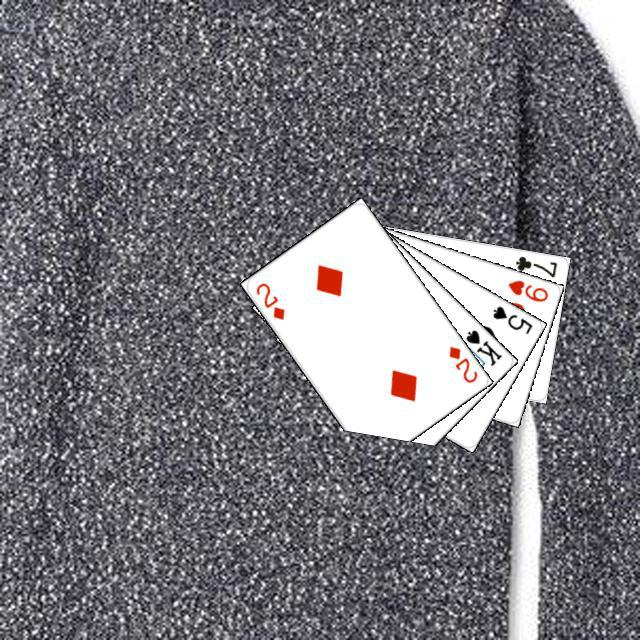2d: (444, 341, 479, 385), (251, 278, 286, 321)
5s: (488, 301, 534, 336)
7c: (510, 251, 559, 279)
9h: (503, 275, 550, 304)
Ks: (461, 325, 504, 368)
